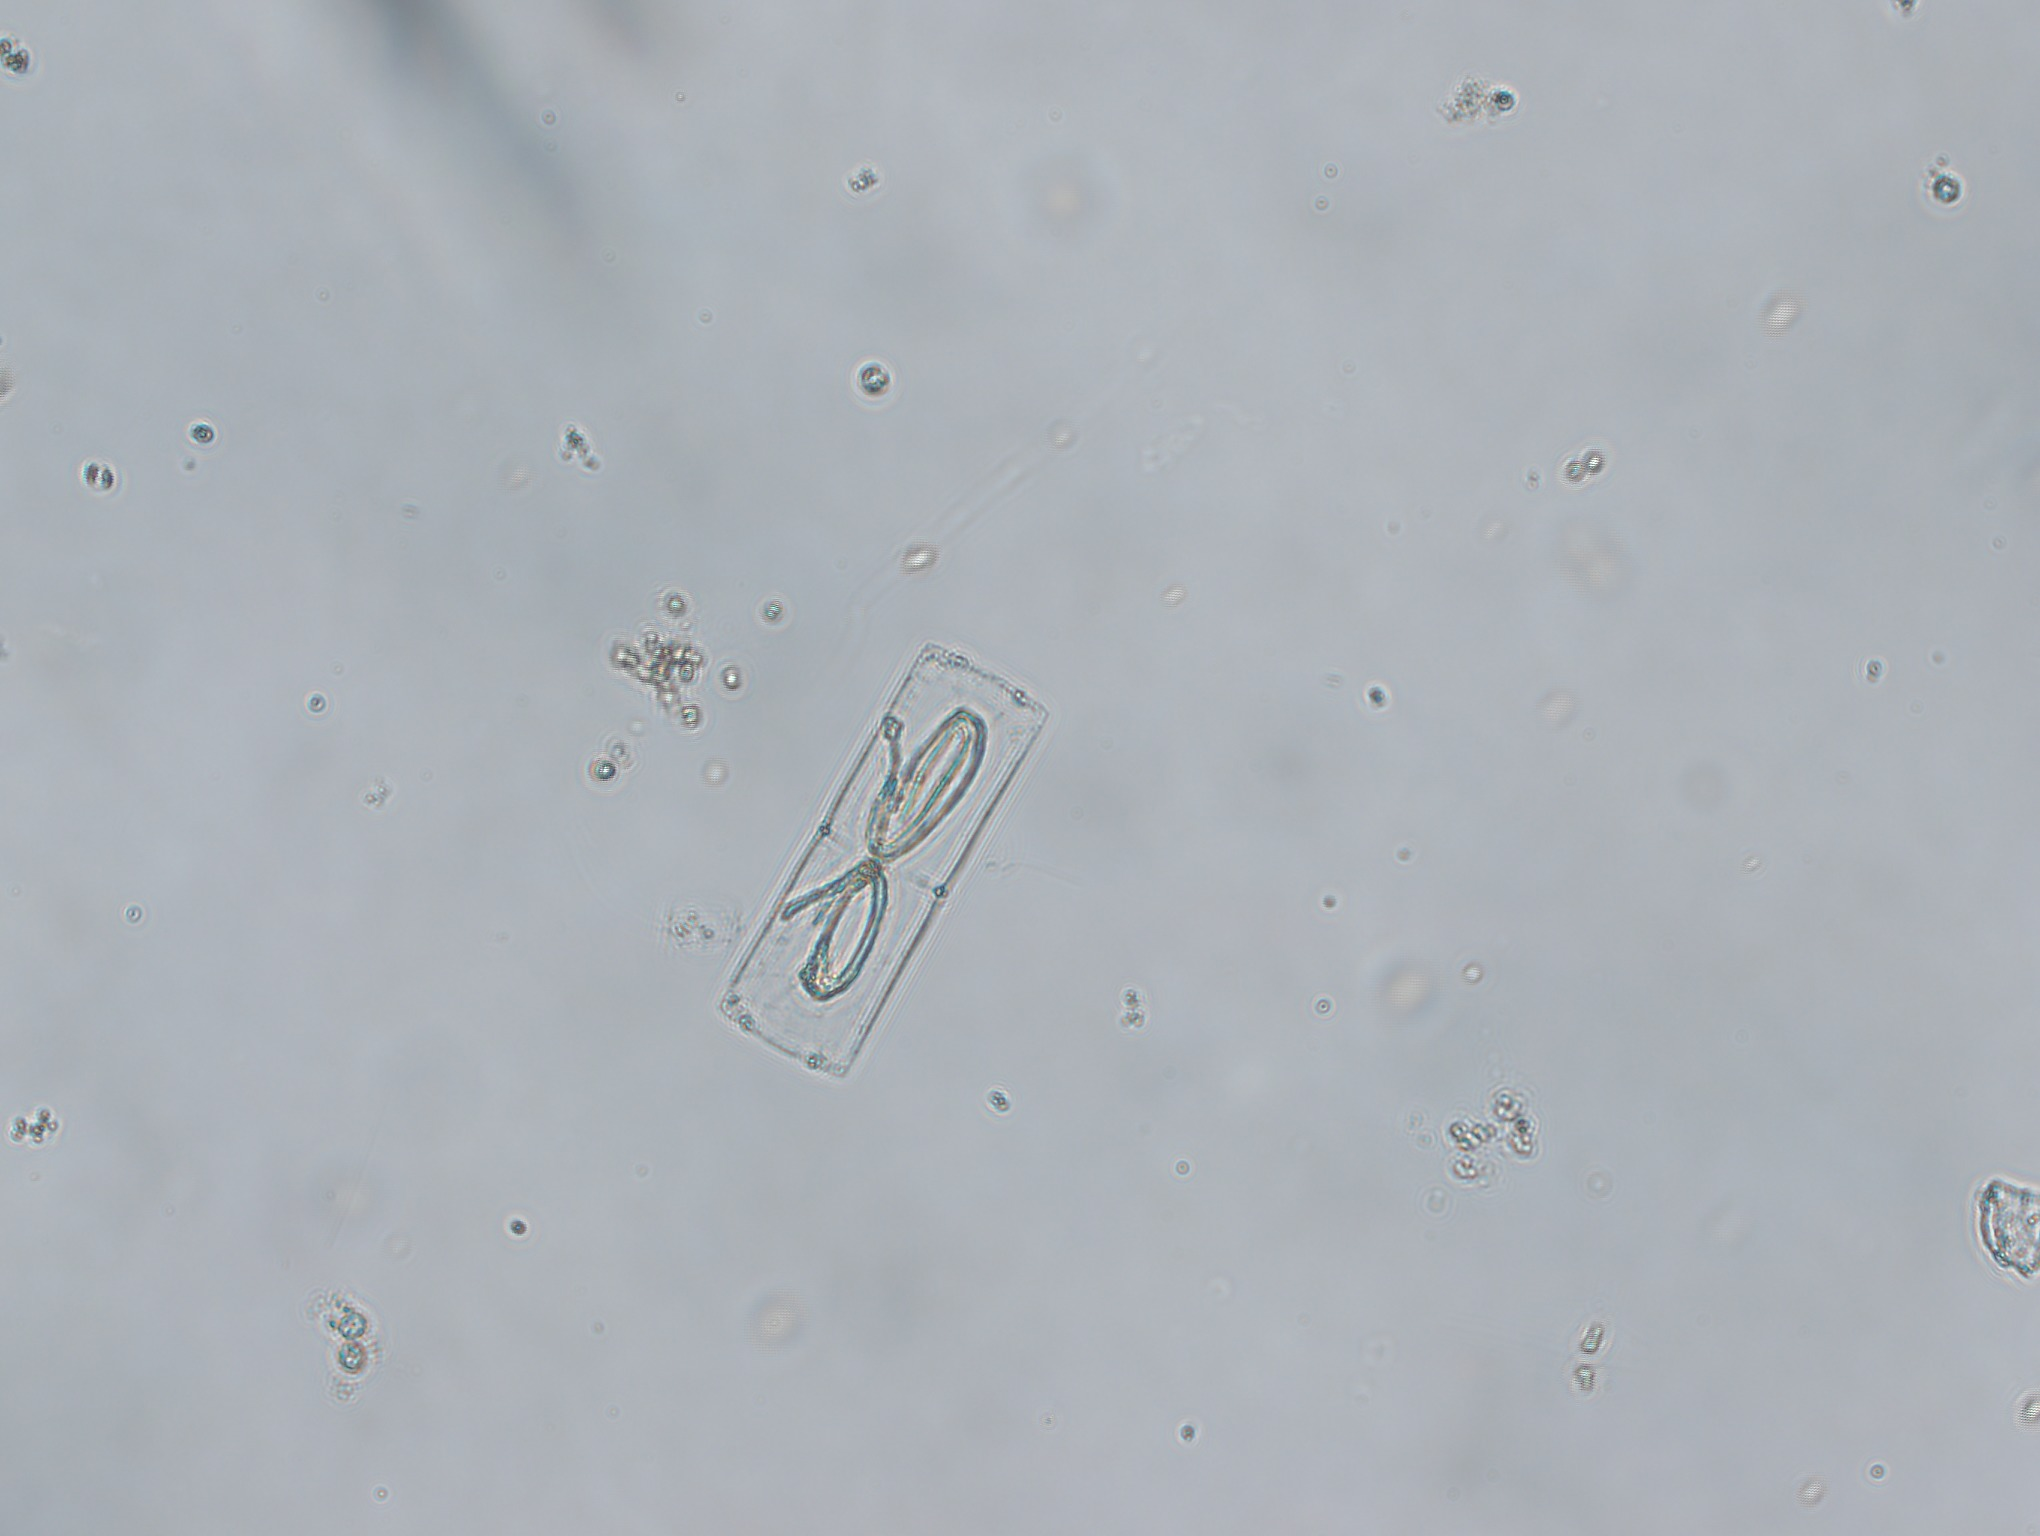guinardia flaccida: (719, 623, 1051, 1092)
